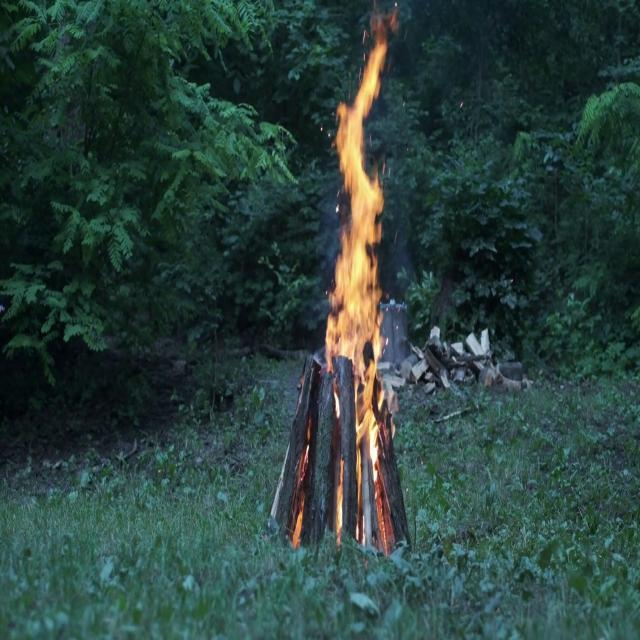Fire: (318, 25, 400, 522)
